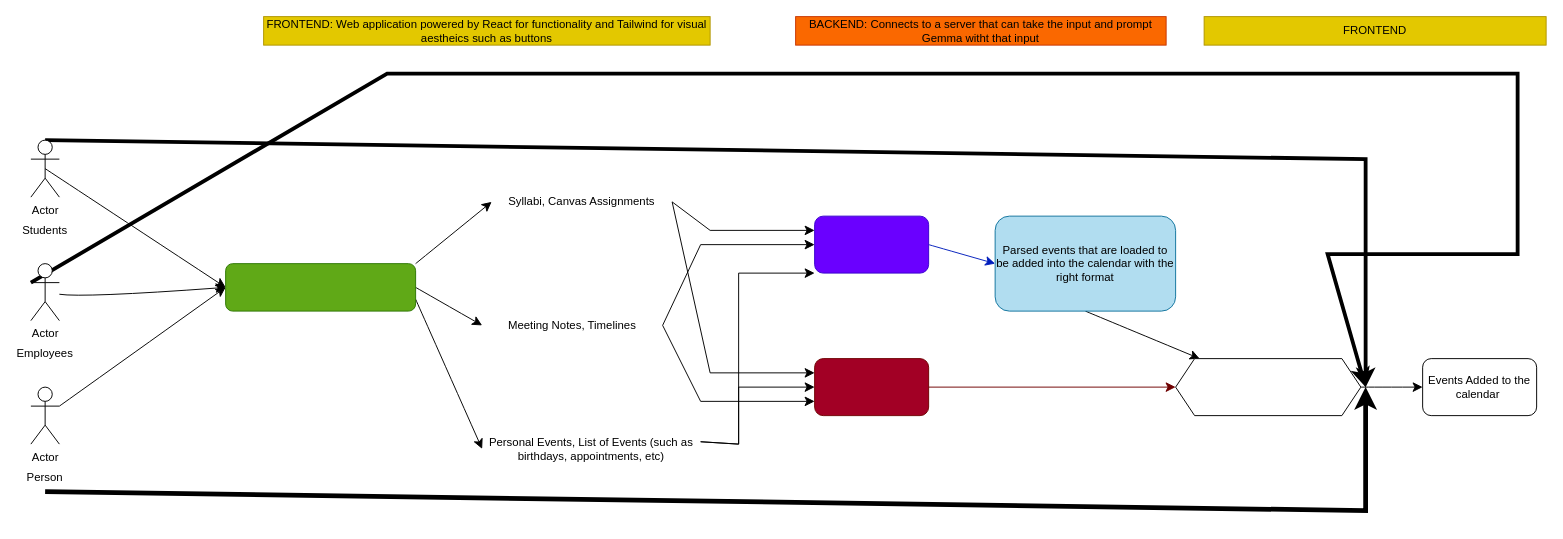
Image size: 1563x539. Some labels were removed from this diagram. The centre of each missing label's shape, as x and y in pixels:
Button for user to approve the addition of the events: the point at 1268,387
Button to input event information to manually add events: the point at 871,387
Gemma: the point at 871,244
Sign In through Google (for access to google calendar): the point at 320,287
